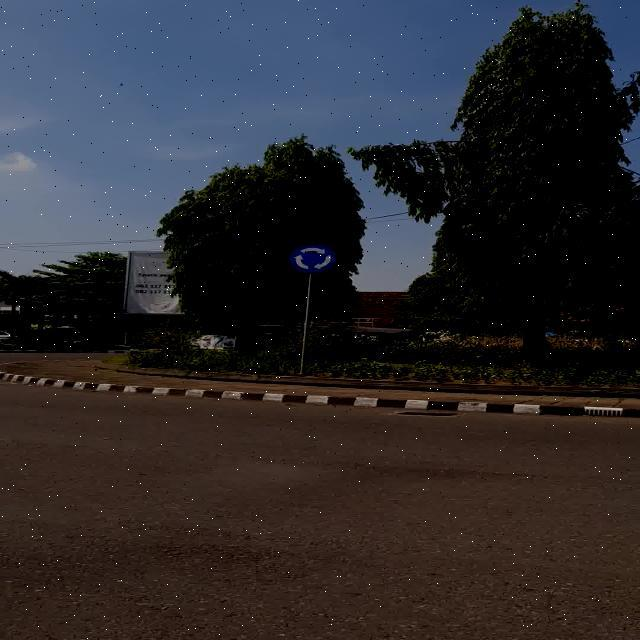Ikuti Bundaran: (288, 244, 337, 273)
